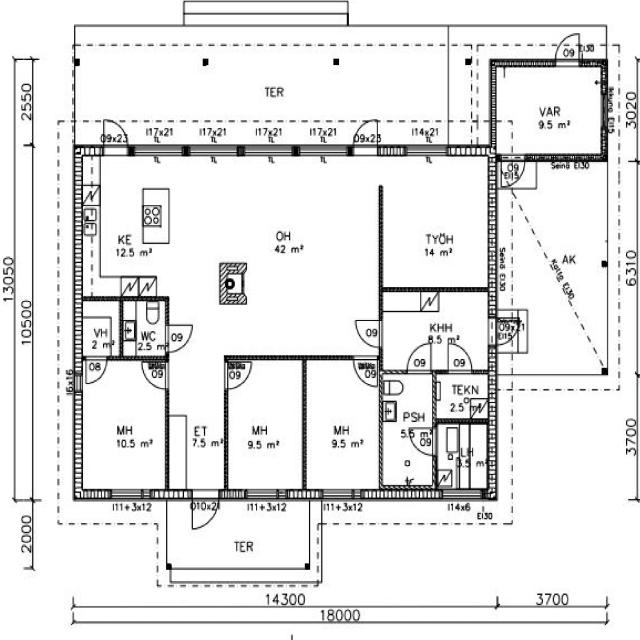door: (192, 489, 219, 529), (103, 116, 128, 156), (487, 317, 521, 345), (353, 117, 377, 156), (408, 428, 438, 456), (501, 154, 524, 188), (556, 32, 578, 67), (353, 355, 377, 387), (356, 320, 383, 347), (142, 362, 169, 388), (165, 326, 192, 352), (224, 362, 251, 388), (448, 344, 471, 374), (408, 342, 430, 373), (86, 356, 107, 384)
